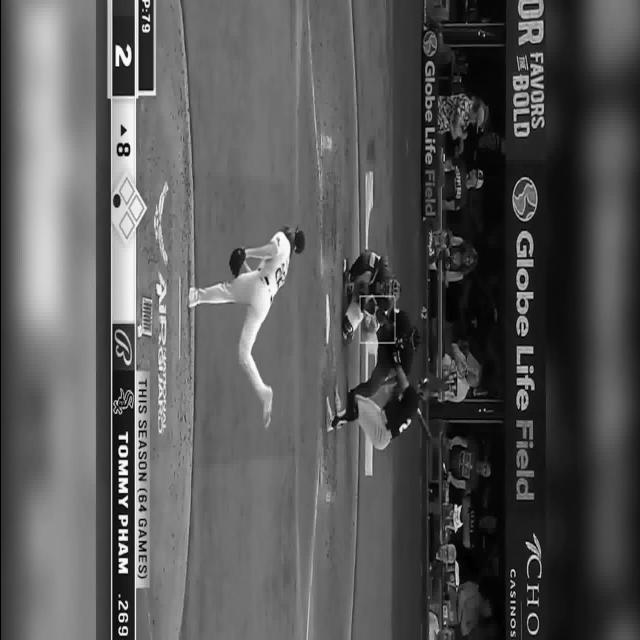baseball_glove: (228, 246, 245, 278)
bat: (416, 406, 432, 439)
shoe: (334, 385, 346, 427), (262, 386, 272, 428), (342, 312, 354, 343), (324, 395, 334, 431), (186, 286, 198, 308), (343, 258, 351, 282)
